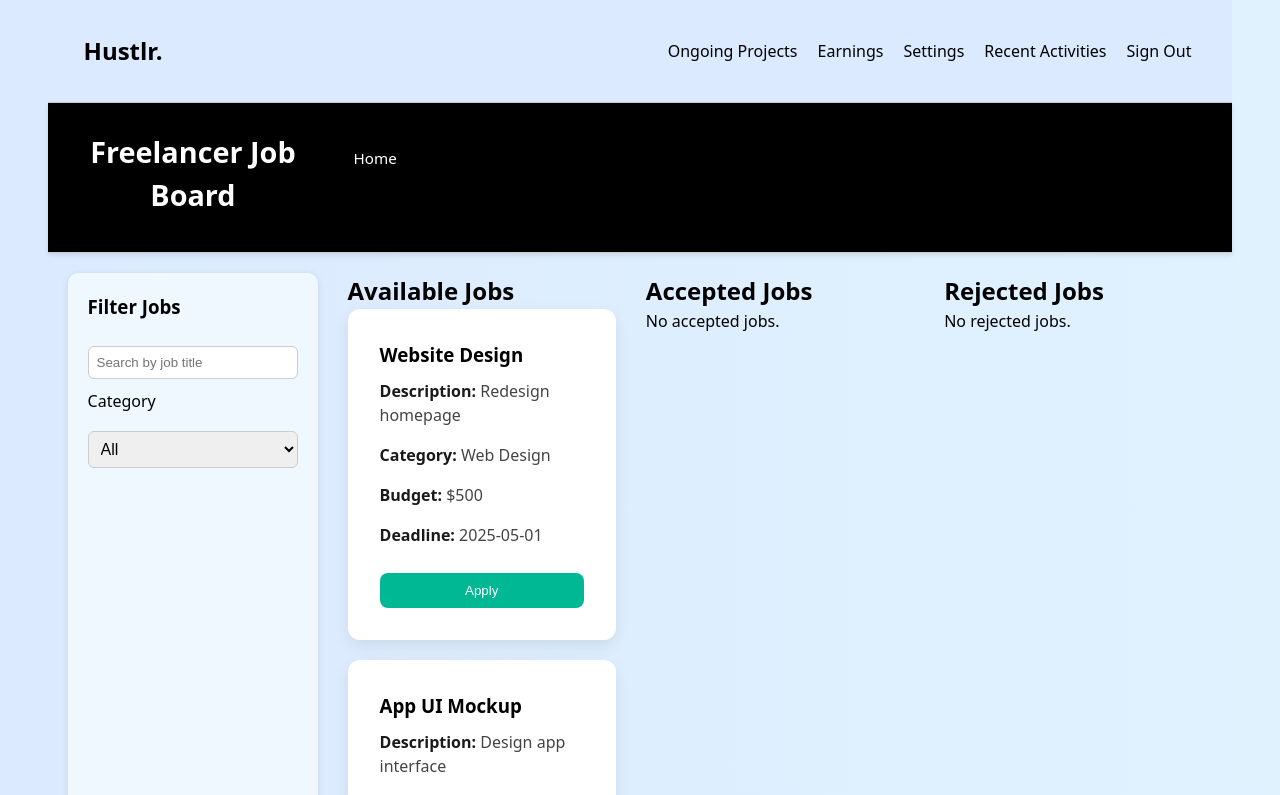
it: FreelancerJobs Component › opens and closes application modal
Click the button "Apply": (482, 590) [380,573,584,608]
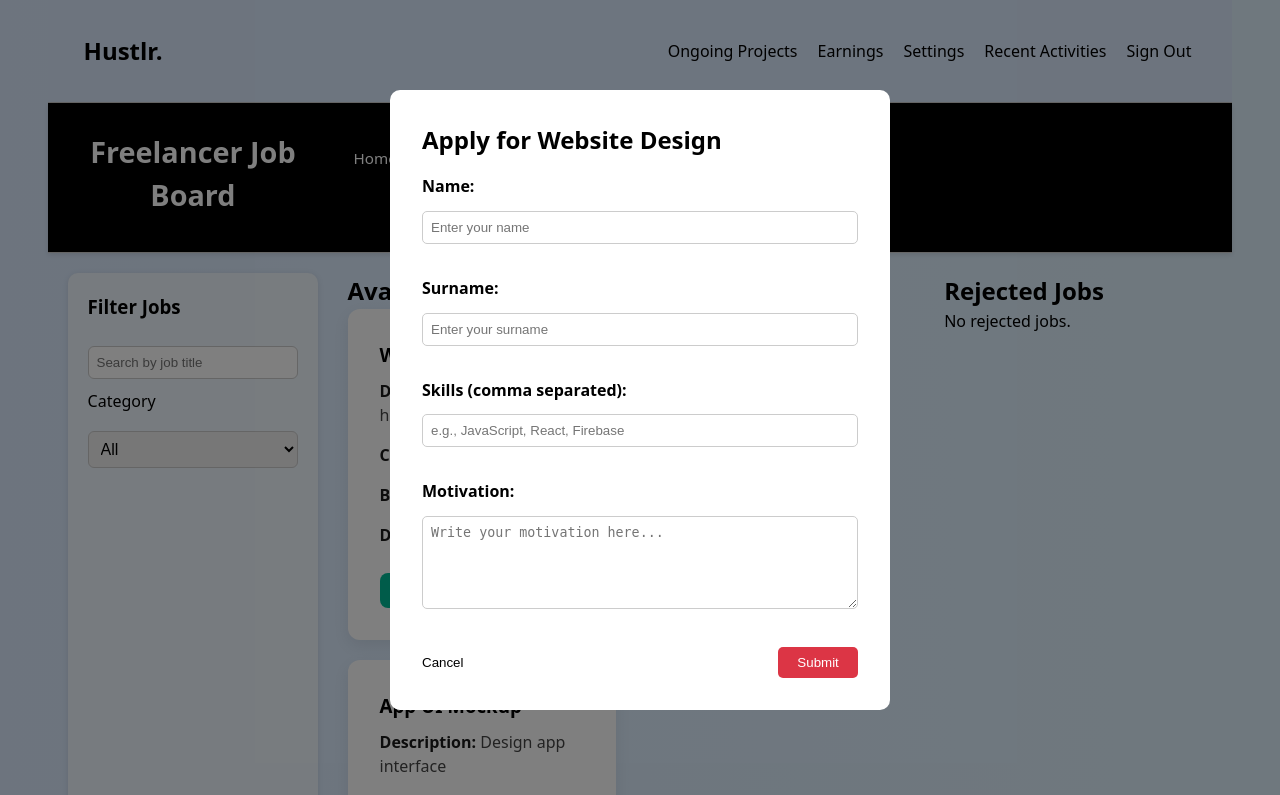
expect the heading "Apply for Website Design" is shown: met, box [422,123,722,156]
Click the button "Cancel": (443, 663) [422,647,464,678]
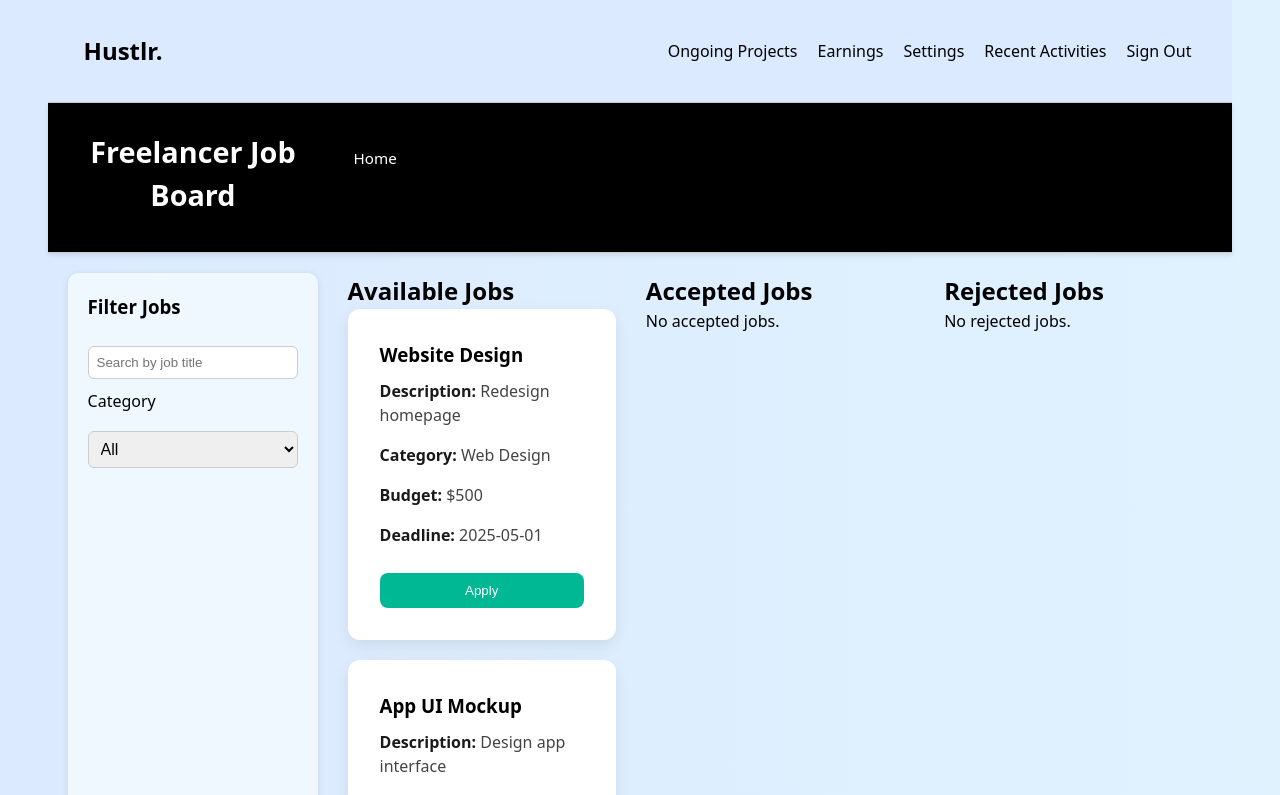
expect the heading "Apply for" is gone: met
